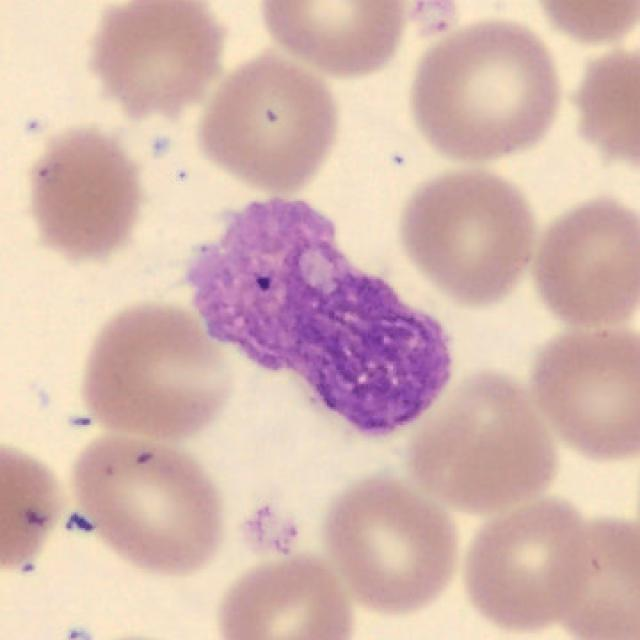Restos celulares: (185, 201, 453, 436)
